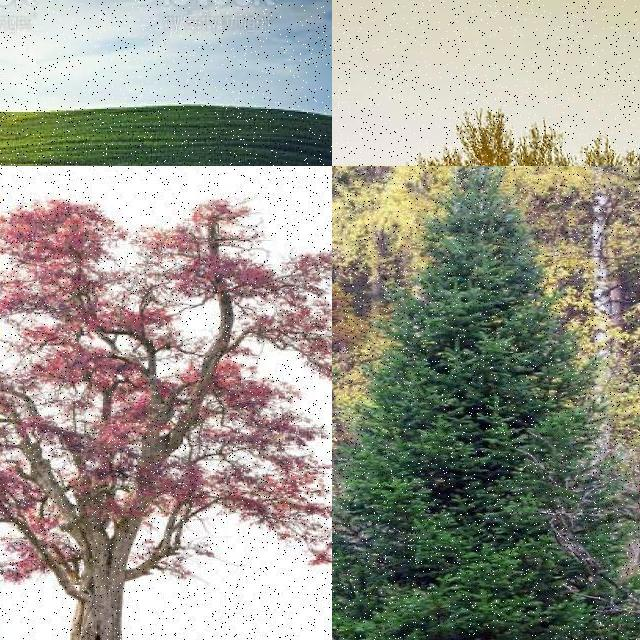tree: (0, 172, 332, 640), (332, 166, 640, 640), (374, 114, 640, 166), (0, 35, 36, 117)
